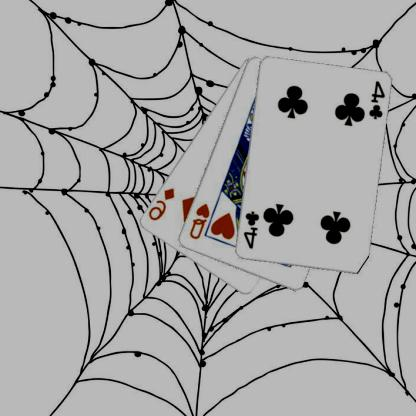4C: (368, 78, 388, 121), (242, 209, 262, 250)
9D: (147, 185, 177, 222)
QH: (188, 201, 212, 241)
